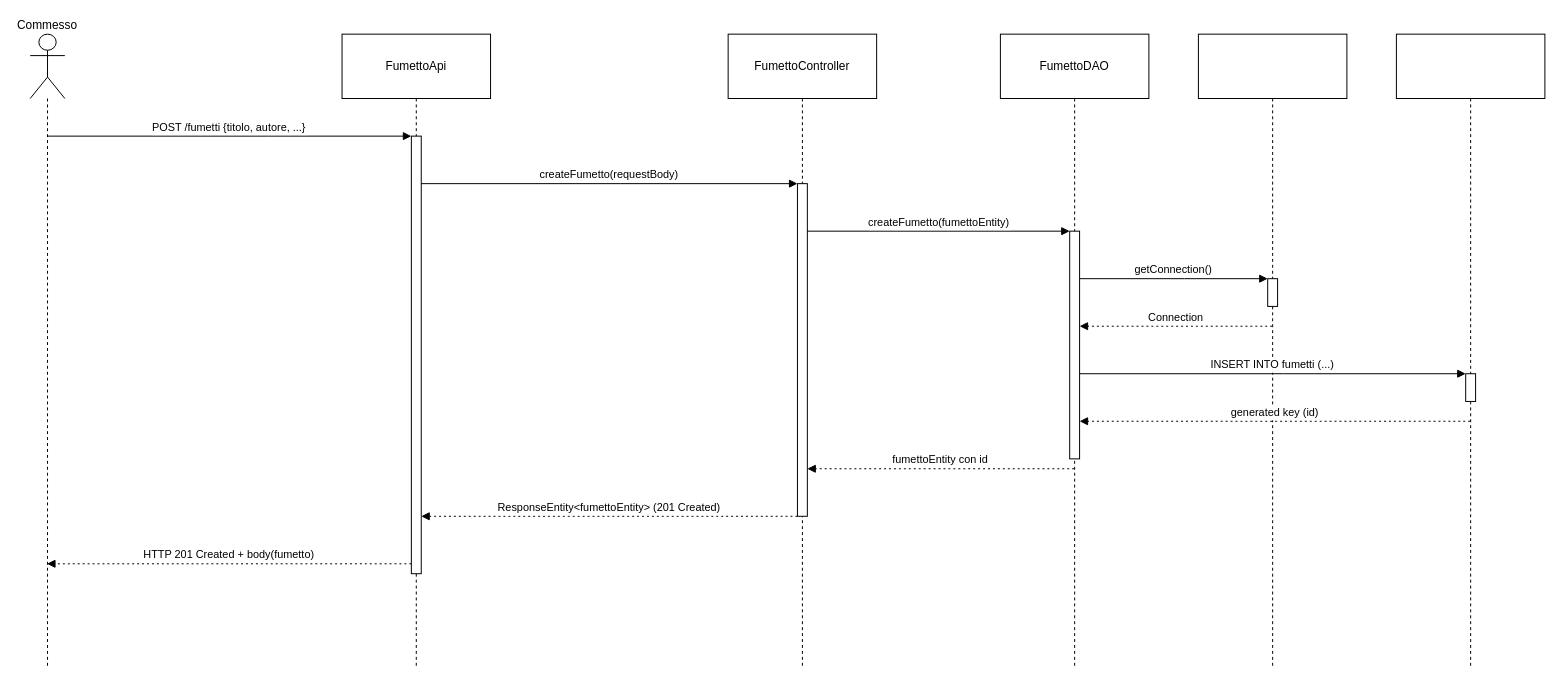
This 1562x685 diagram has some shape labels left out. The shapes that lost their labels are listed below. From the top down, each one's box as (x1, y1, x2, y2) in pixels, then its label:
(1197, 33, 1347, 668): DBManager
(1395, 33, 1545, 668): Database
